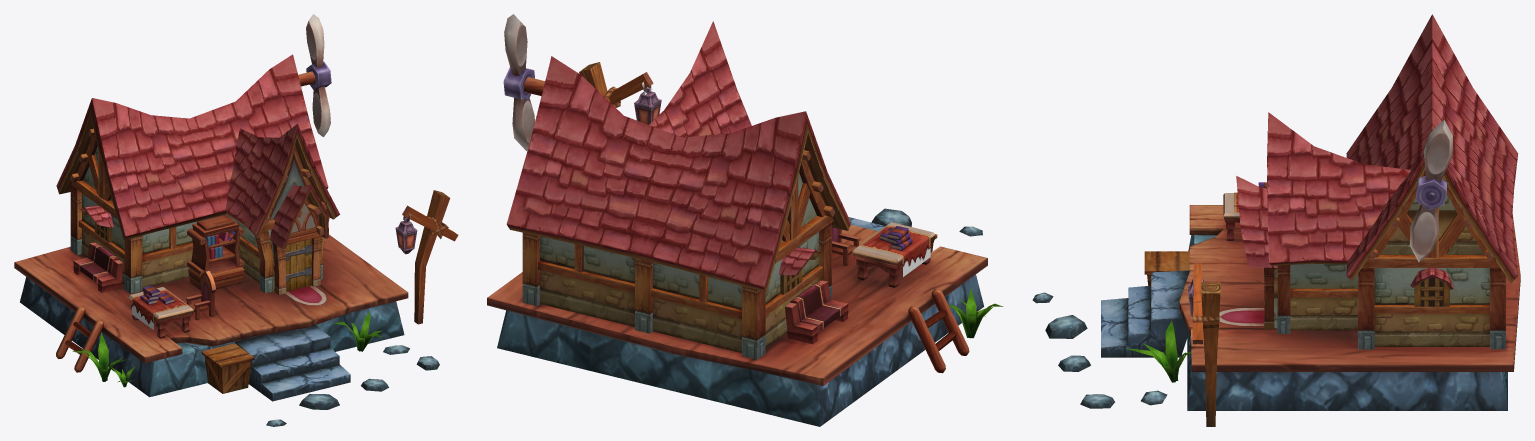
The model's file is house03.FBX.
3 renders of one model, left to right at view 1: azimuth 30°, elevation 25°; view 2: azimuth 150°, elevation 25°; view 3: azimuth 270°, elevation 25°, orthographic. The views are drawn at different scales.
Parts seen in each view (by area): view 1: Object01, Object08, Object02; view 2: Object01, Object08, Object02; view 3: Object01, Object08, Object02.
Part boxes in pixels (left/top/right/bottom): Object01: left=14, top=136, right=439, bottom=426; Object08: left=56, top=54, right=339, bottom=249; Object02: left=56, top=14, right=458, bottom=393; Object01: left=487, top=159, right=987, bottom=426; Object08: left=506, top=21, right=850, bottom=294; Object02: left=503, top=14, right=1003, bottom=373; Object01: left=1032, top=172, right=1520, bottom=410; Object08: left=1236, top=14, right=1518, bottom=306; Object02: left=1124, top=119, right=1505, bottom=426.
Bounding box in the file's own units: 221 × 211 × 143.
